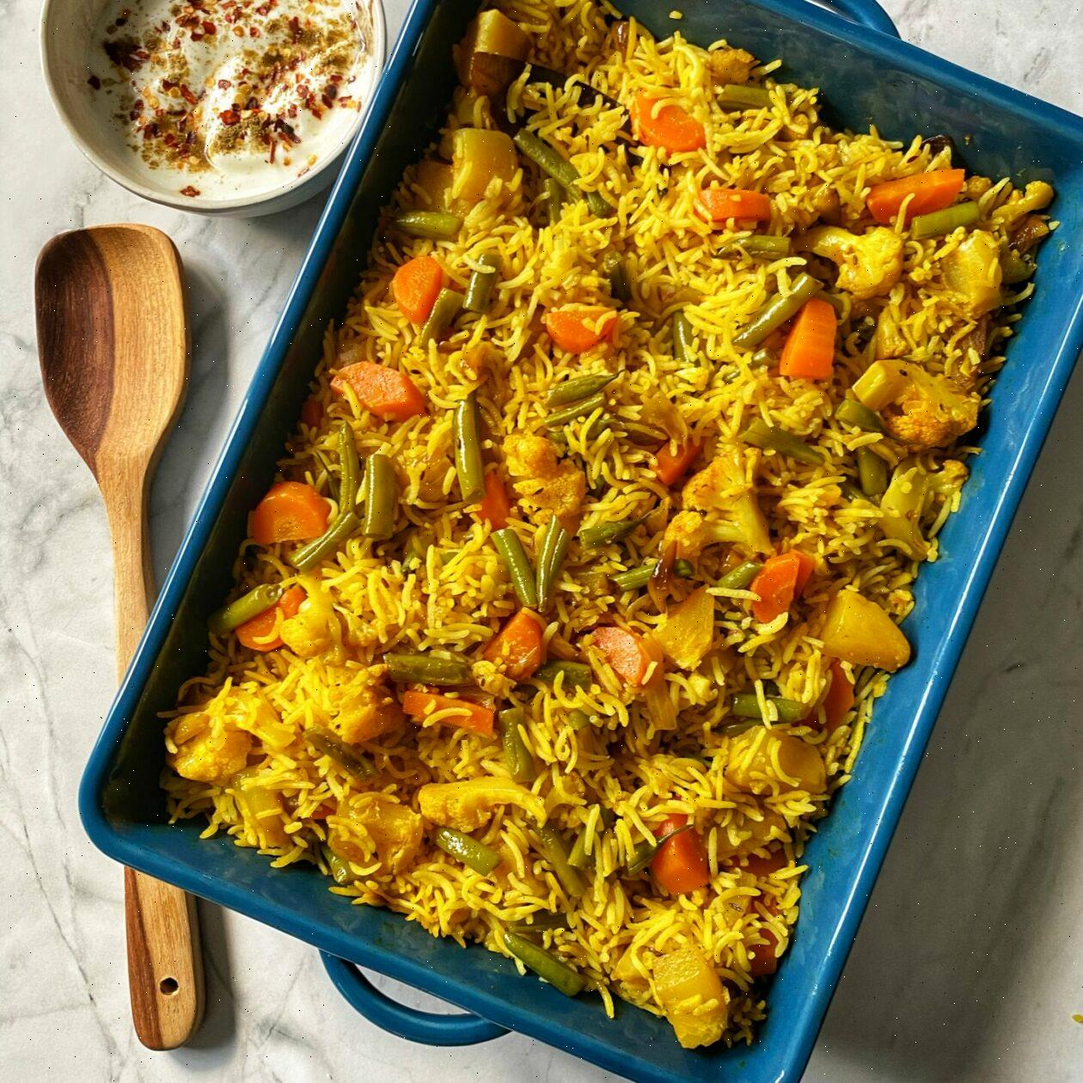veg-pulao: (336, 67, 899, 1017)
yogurt: (38, 0, 359, 153)
